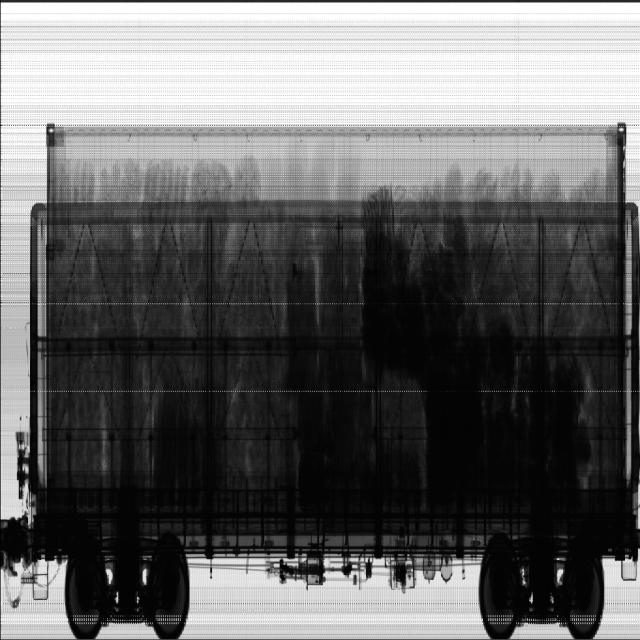textiles: (48, 157, 293, 484)
